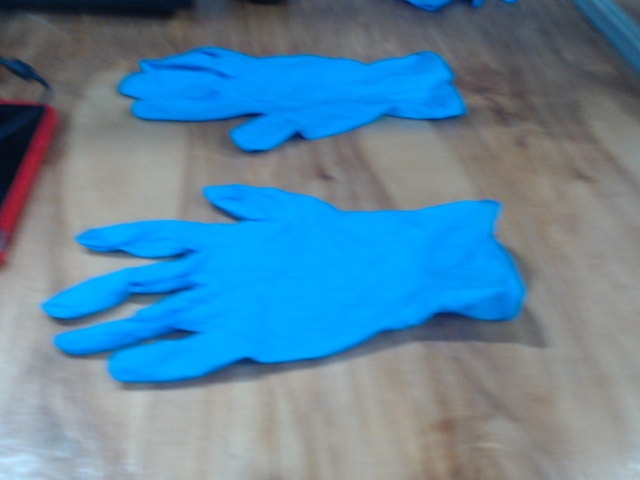medical_glove: (41, 184, 527, 384), (117, 46, 467, 150)
